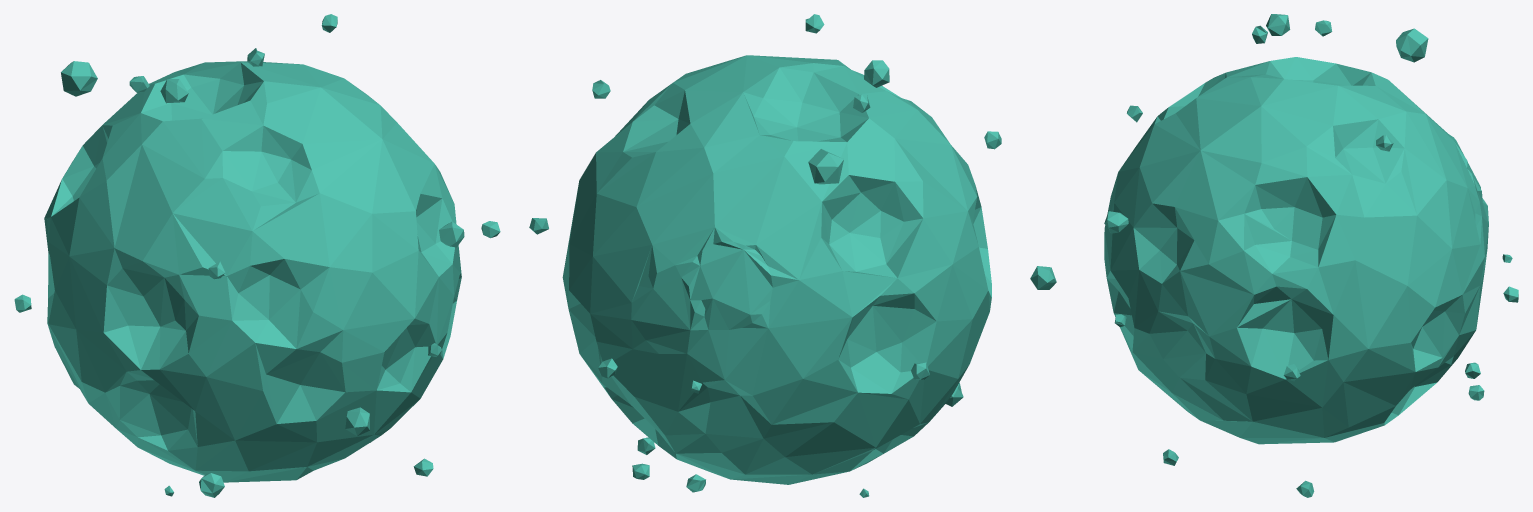
File: Planet_10.glb
3 renders of one model, left to right at view 1: azimuth 30°, elevation 25°; view 2: azimuth 150°, elevation 25°; view 3: azimuth 270°, elevation 25°, orthographic. The views are drawn at different scales.
Visible parts, largest first — view 1: Planet_10; view 2: Planet_10; view 3: Planet_10.
Part boxes in pixels (box(x1,y1,x2,y2)): Planet_10: box(14, 14, 500, 497); Planet_10: box(529, 14, 1001, 497); Planet_10: box(1030, 14, 1518, 497).
Bounding box in the file's own units: 23.76 × 23.3 × 25.14.
Materials: 1 (1 with a texture image).
